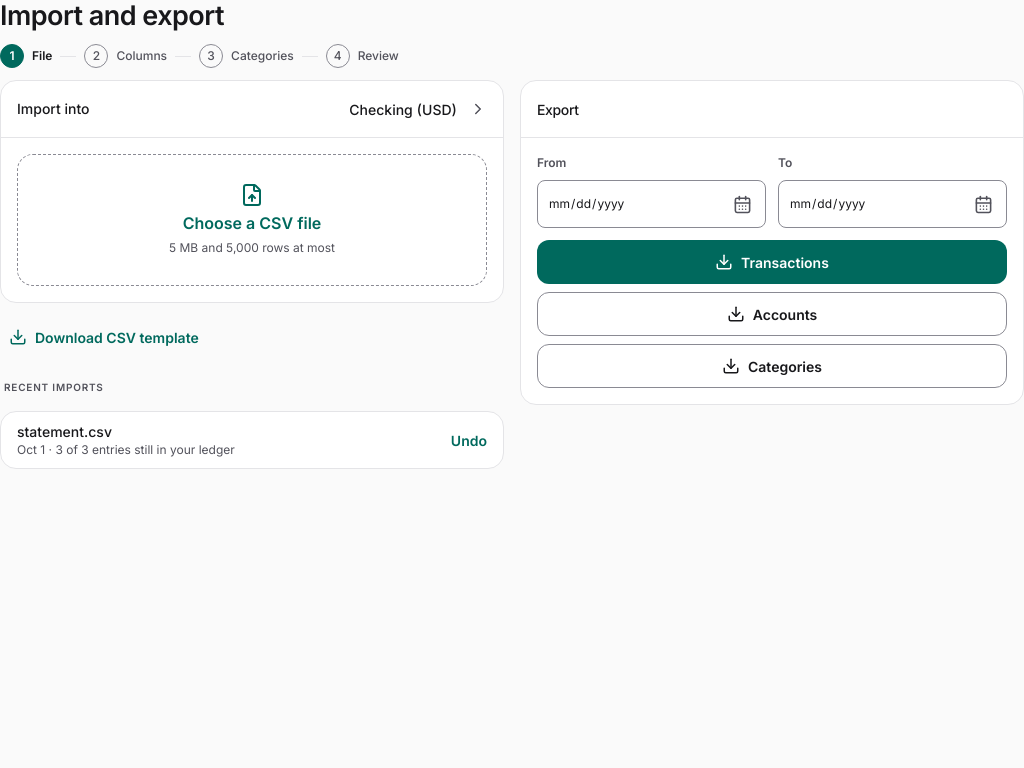
Scenario: ImportPage › closes the question once the entries are removed, even while the list still shows the import
Expected: the heading "Recent imports" is shown, [4,381,104,393]
Click the button "statement.csv": [64, 431] box [1,412,503,468]
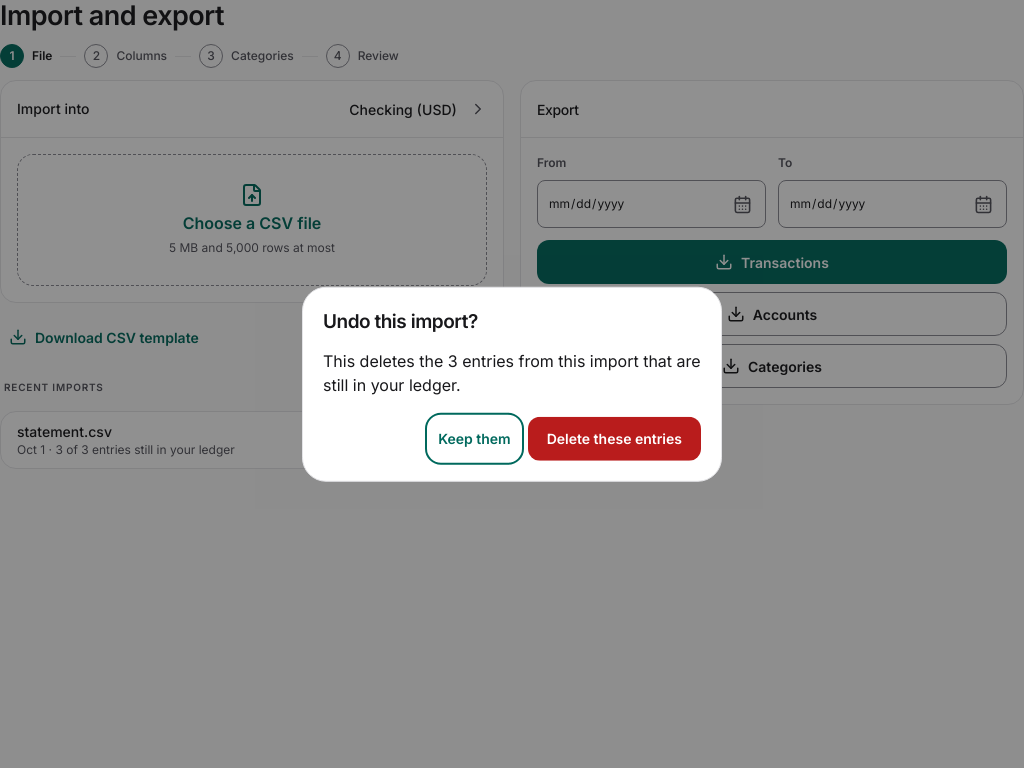
Click the button "Delete these entries": [614, 438] box [528,416,701,460]
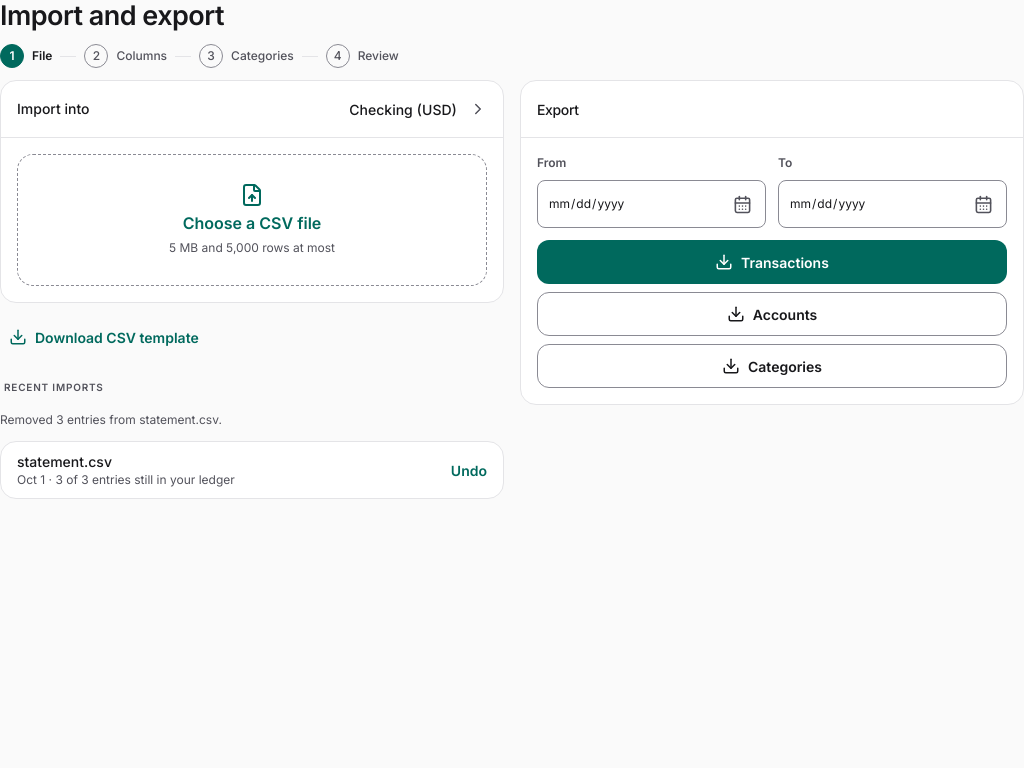
Expected: the button "statement.csv" is shown, [1,442,503,498]
Expected: the text "Removed 3 entries from statement.csv." is shown, [0,412,222,427]
Expected: the heading "Undo this import?" is gone
